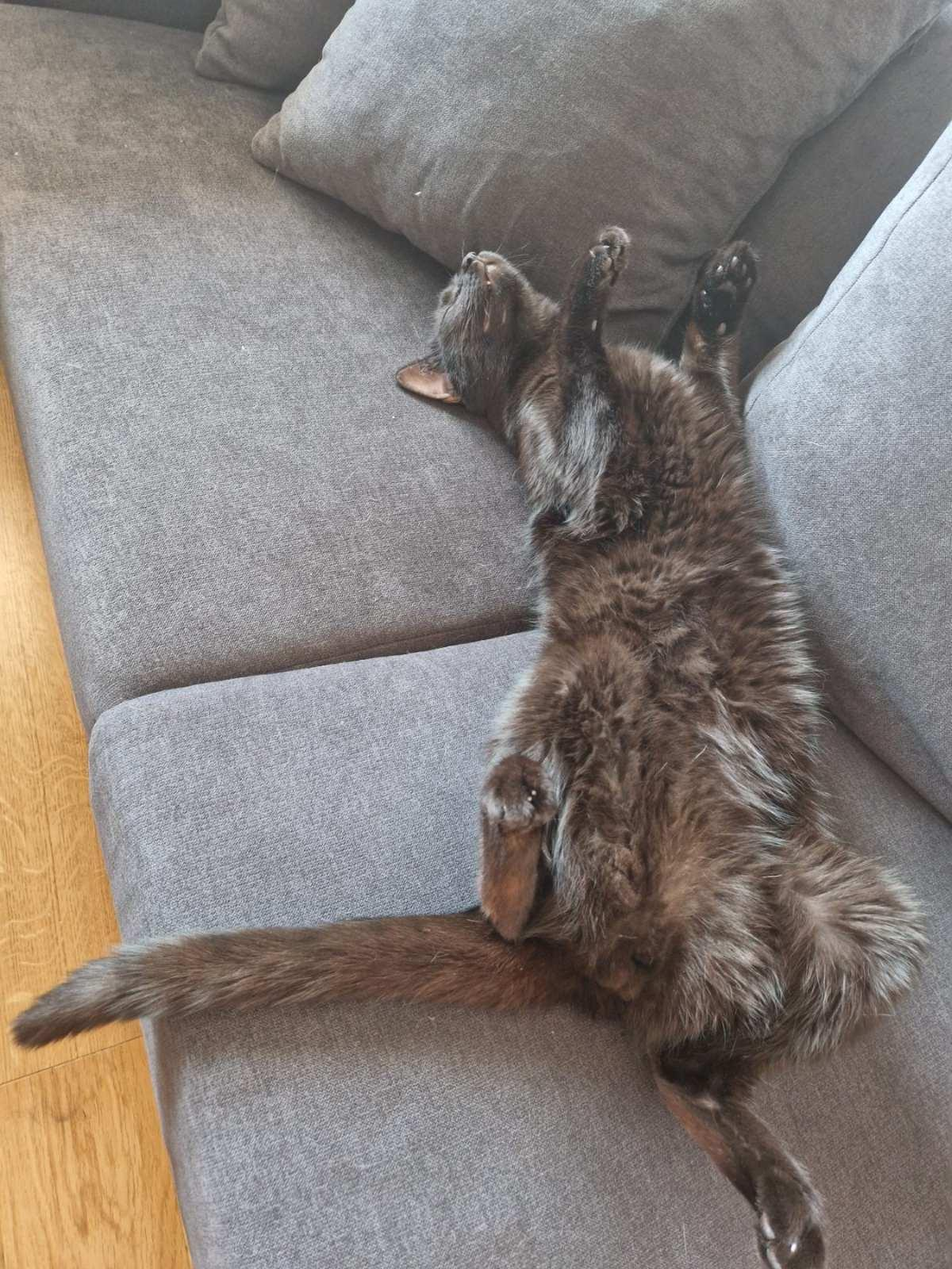macka: (24, 215, 917, 1269)
